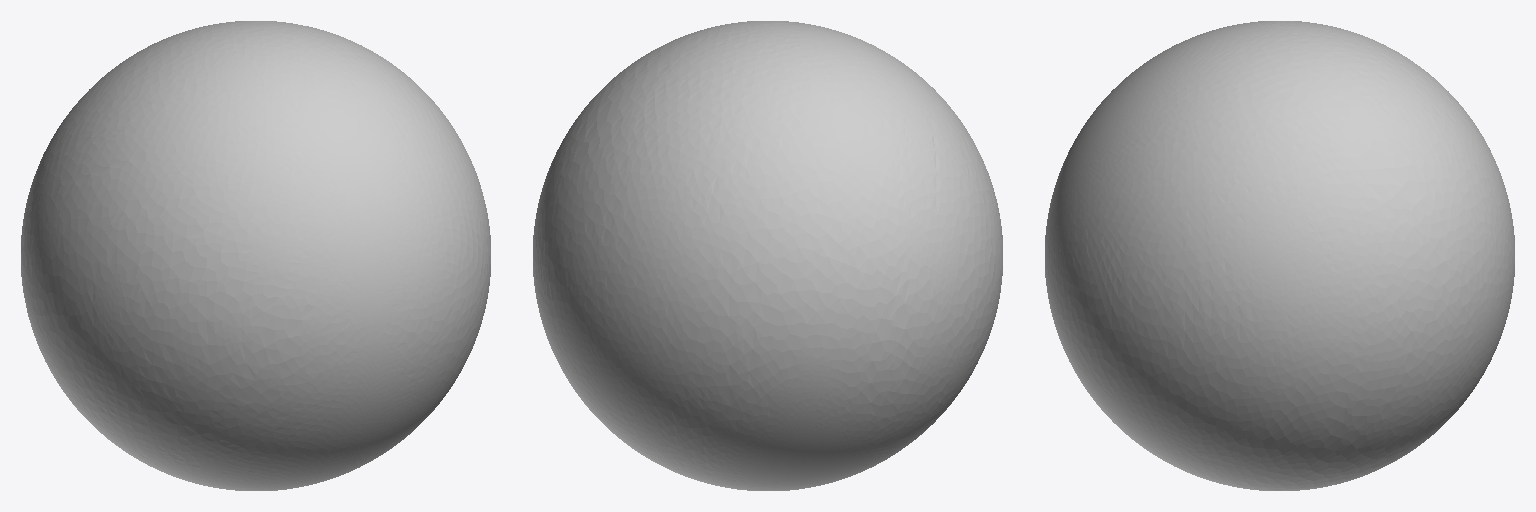
Rendered from map_to_sphere_centered.obj.
The picture shows the model from 3 angles: view 1: azimuth 30°, elevation 25°; view 2: azimuth 150°, elevation 25°; view 3: azimuth 270°, elevation 25°; orthographic projection.
Size of the model in its own units: 2 by 2 by 2.